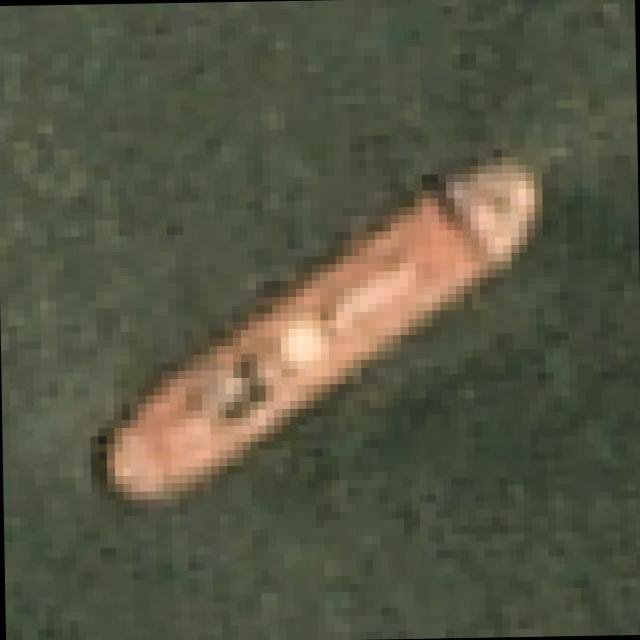ship: (87, 137, 568, 518)
